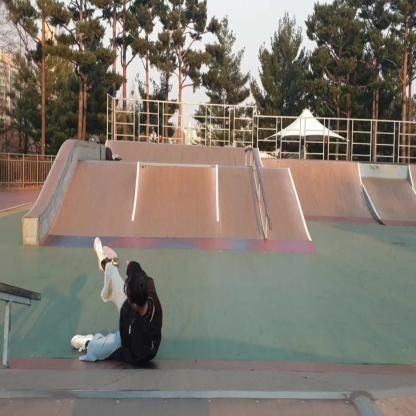Fall_Down: (68, 231, 167, 370)
